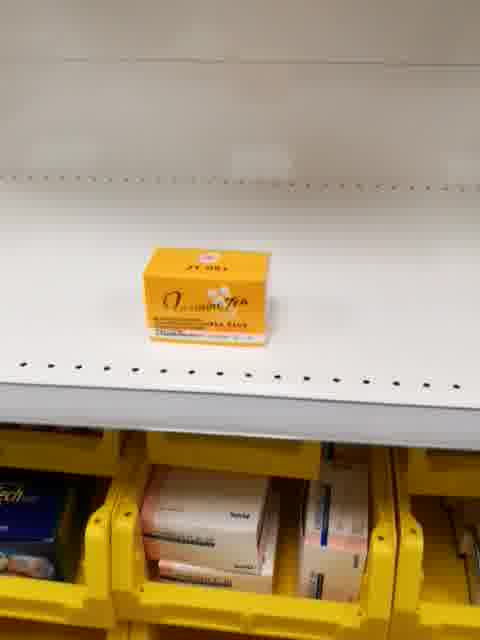jasminetea: (139, 244, 275, 352)
